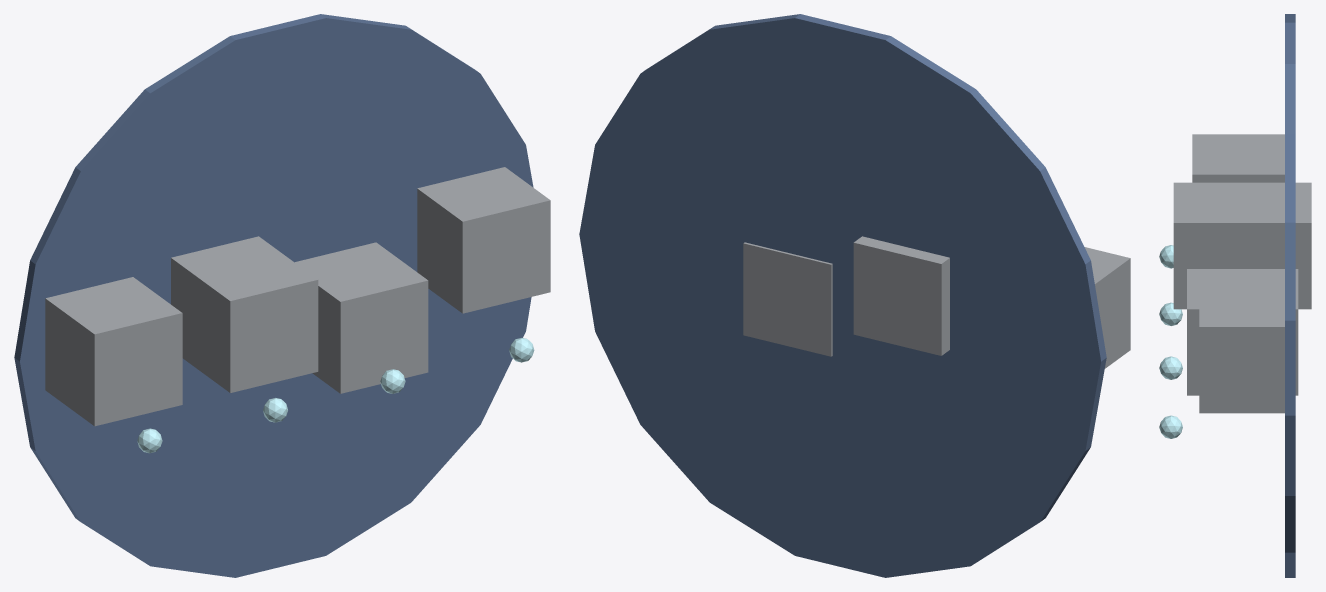
File: 02_local_prop_cluster.glb
3 views of the same model, side by side, from view 1: azimuth 30°, elevation 25°; view 2: azimuth 150°, elevation 25°; view 3: azimuth 270°, elevation 25° (orthographic). The views are drawn at different scales.
Parts seen in each view (by area): view 1: scatter_base, tech_crate_1, tech_crate_0, tech_crate_3, tech_crate_2; view 2: scatter_base, tech_crate_1, tech_crate_2, tech_crate_0; view 3: tech_crate_1, tech_crate_3, scatter_base, tech_crate_0, tech_crate_2, status_light_2, status_light_3, status_light_1, status_light_0.
Boxes of the visible parts, <box> form: scatter_base: <box>14,14,533,577</box>; tech_crate_1: <box>171,236,318,392</box>; tech_crate_0: <box>45,277,182,426</box>; tech_crate_3: <box>417,167,550,313</box>; tech_crate_2: <box>295,242,428,393</box>; scatter_base: <box>579,14,1106,577</box>; tech_crate_1: <box>853,236,949,355</box>; tech_crate_2: <box>743,242,832,356</box>; tech_crate_0: <box>1084,247,1130,368</box>; tech_crate_1: <box>1173,182,1311,309</box>; tech_crate_3: <box>1199,286,1284,413</box>; scatter_base: <box>1285,14,1295,577</box>; tech_crate_0: <box>1192,134,1284,182</box>; tech_crate_2: <box>1187,269,1298,395</box>; status_light_2: <box>1159,356,1182,379</box>; status_light_3: <box>1159,415,1182,438</box>; status_light_1: <box>1159,302,1182,325</box>; status_light_0: <box>1159,245,1173,268</box>.
Bounding box in the file's own units: 1.9 × 1.87 × 0.512.
